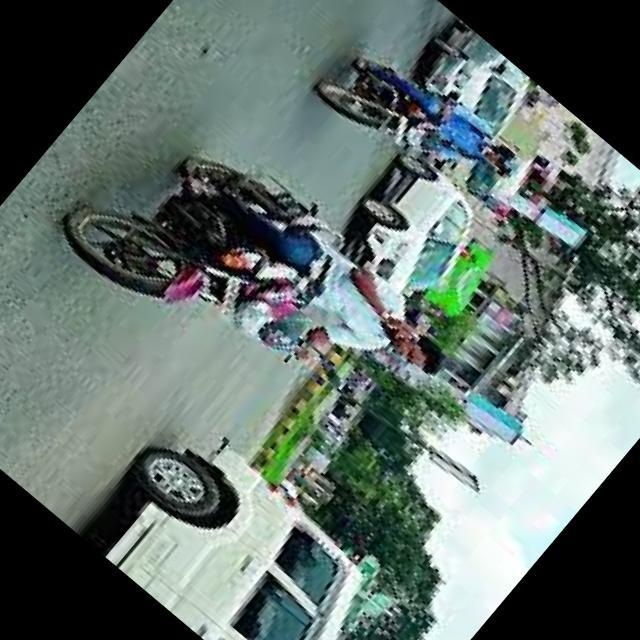USING_MOBILE: (335, 261, 431, 348)
